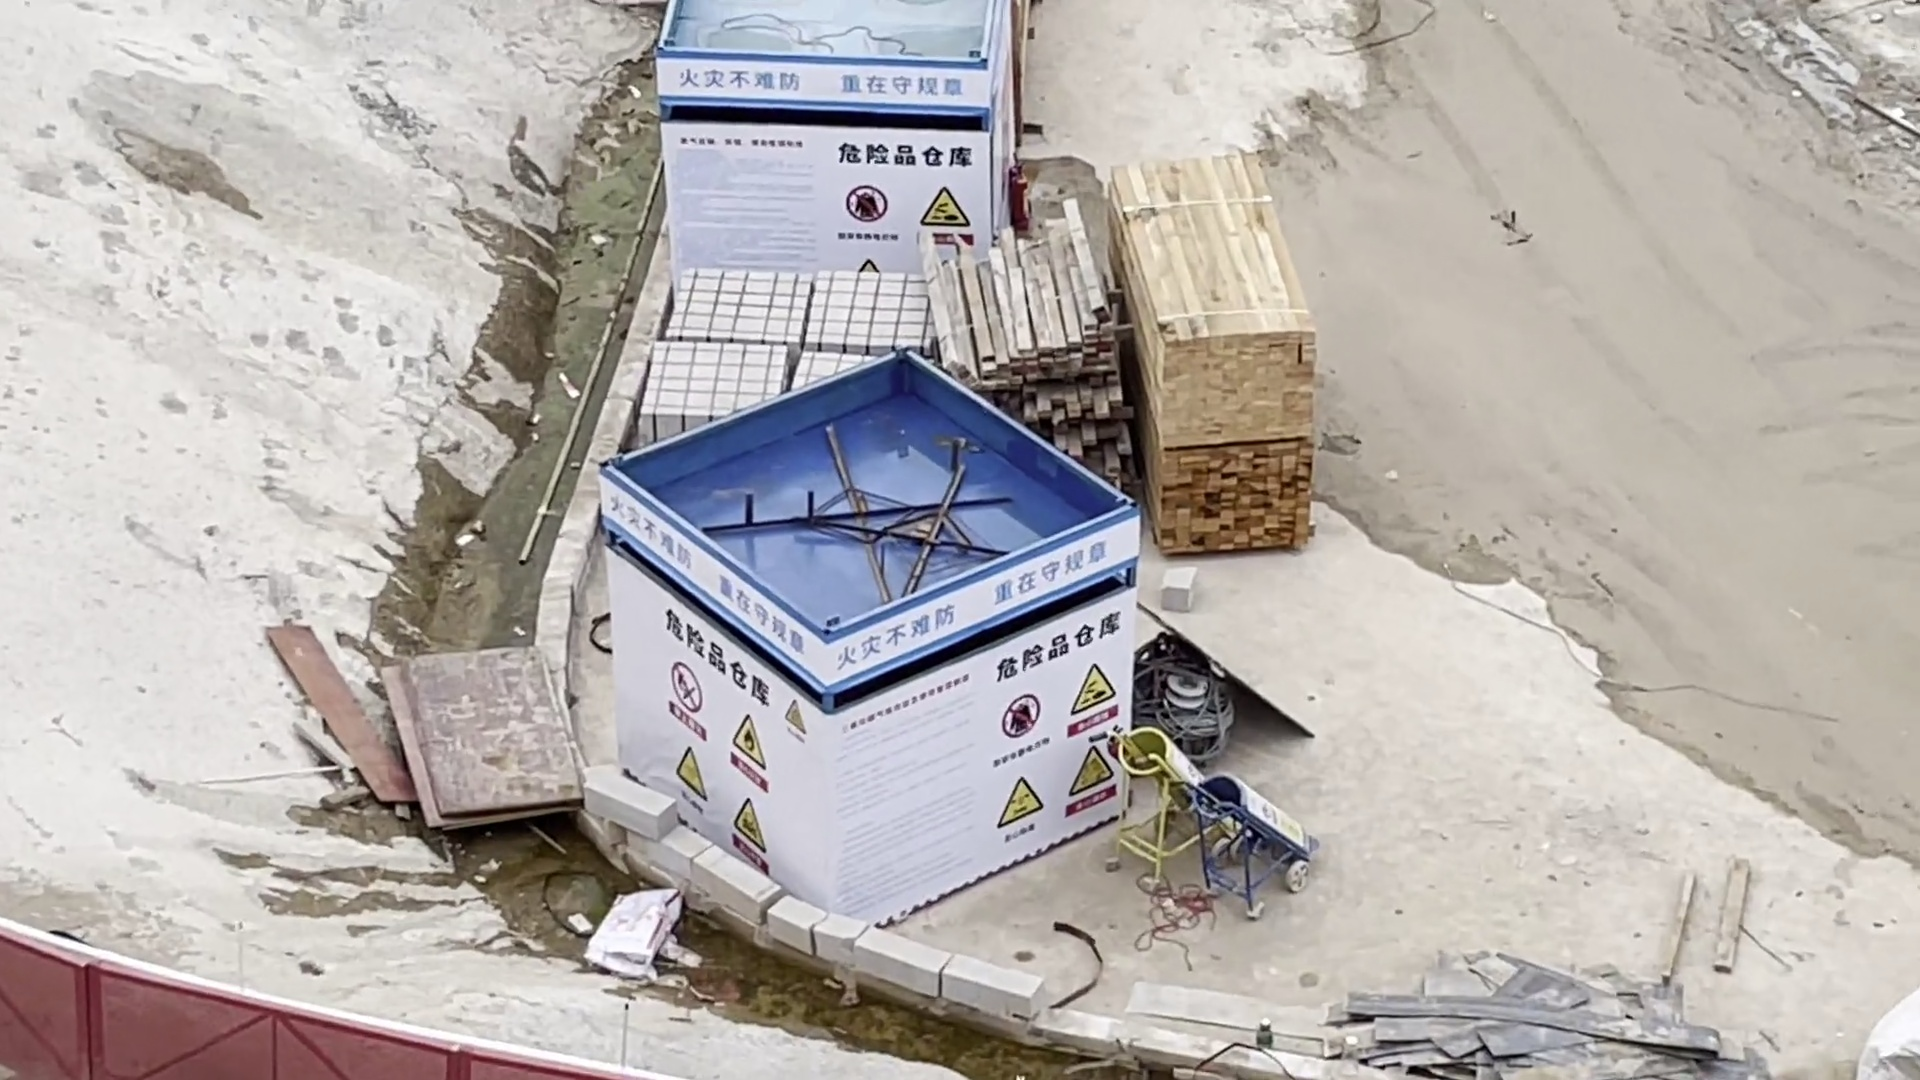slogan: (585, 371, 1174, 895), (657, 1, 1025, 270)
wood: (1121, 193, 1316, 439), (915, 227, 1113, 458), (1145, 429, 1328, 574)
